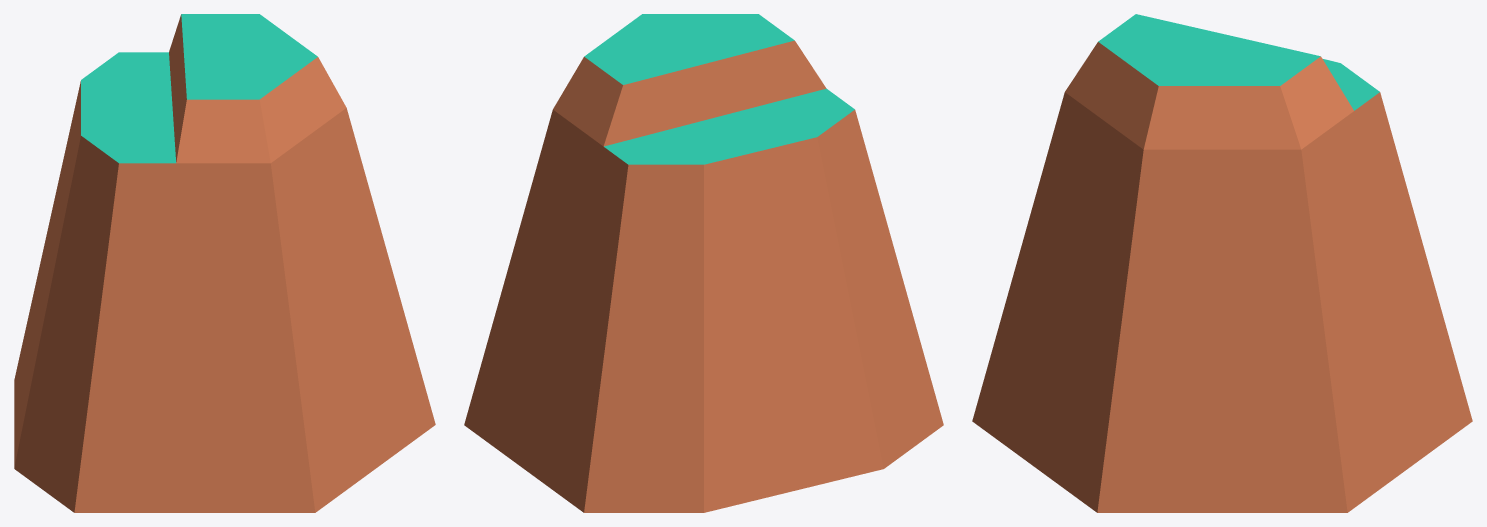
File: rock_tallE.glb
3 views of the same model, side by side, from view 1: azimuth 30°, elevation 25°; view 2: azimuth 150°, elevation 25°; view 3: azimuth 270°, elevation 25° (orthographic). The views are drawn at different scales.
Visible parts, largest first — view 1: rock_tallE; view 2: rock_tallE; view 3: rock_tallE.
Boxes of the visible parts, x1,y1,x2,y2 form: rock_tallE: (14, 14, 435, 512); rock_tallE: (464, 14, 943, 512); rock_tallE: (972, 14, 1472, 512).
Bounding box in the file's own units: 0.4562 × 0.4438 × 0.5268.
